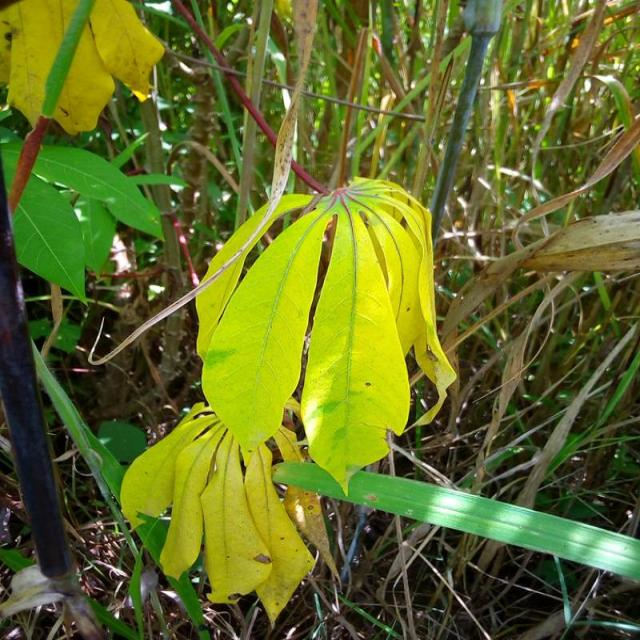cassava leaf: (198, 175, 457, 494), (299, 198, 411, 496)
